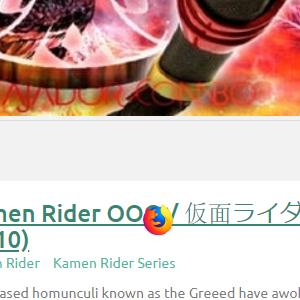firefox: (142, 204, 173, 236)
